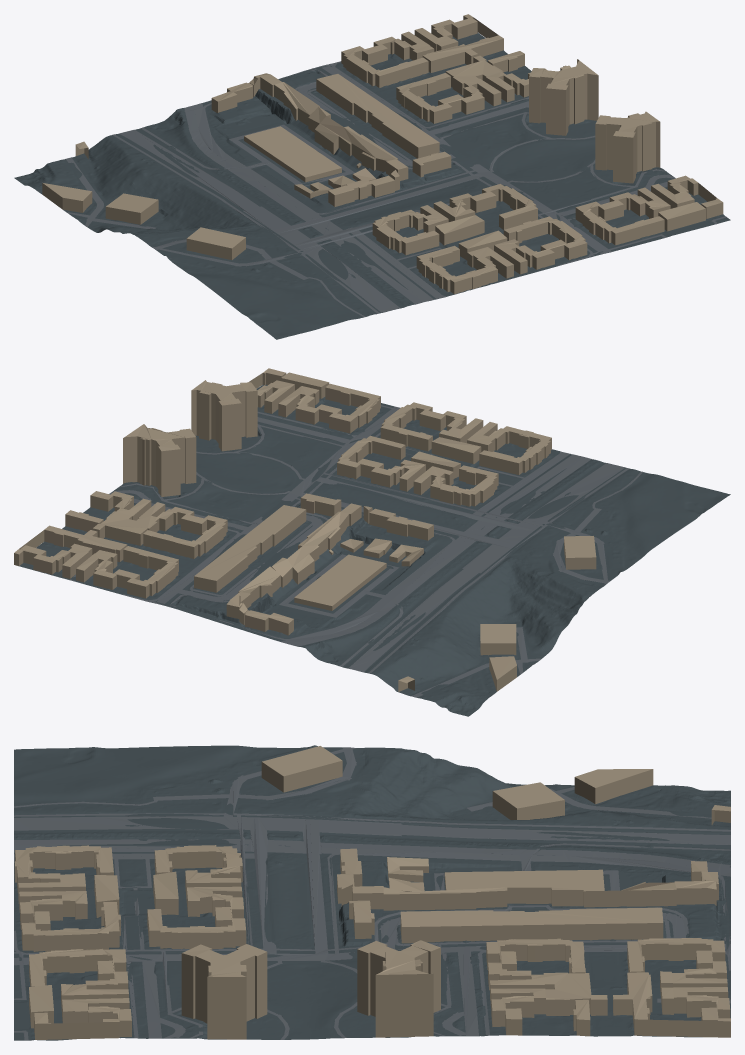
Rendered from epsg26910-1420-10871.lod0.glb.
3 views of the same model, one above another, from view 1: azimuth 30°, elevation 25°; view 2: azimuth 150°, elevation 25°; view 3: azimuth 270°, elevation 25° (orthographic). The views are drawn at different scales.
Parts seen in each view (by area): view 1: epsg26910-1420-10871-lod0; view 2: epsg26910-1420-10871-lod0; view 3: epsg26910-1420-10871-lod0.
Boxes of the visible parts, x1=… form: epsg26910-1420-10871-lod0: x1=14, y1=14, x2=730, y2=339; epsg26910-1420-10871-lod0: x1=14, y1=368, x2=730, y2=716; epsg26910-1420-10871-lod0: x1=14, y1=745, x2=730, y2=1040.
Size of the model in its own units: 384 by 71.03 by 384.
